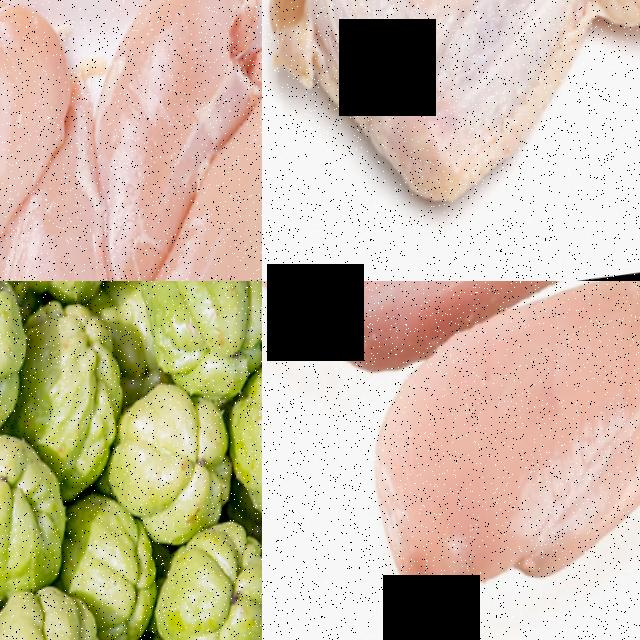chayote: (104, 367, 251, 535), (0, 425, 104, 602), (5, 301, 132, 439), (108, 281, 262, 384), (146, 521, 262, 640), (0, 281, 53, 457), (0, 573, 138, 640)
chicken breast: (331, 281, 640, 612), (85, 0, 262, 144), (0, 166, 165, 281), (117, 168, 262, 281), (0, 0, 83, 158)
chicken wing: (262, 0, 640, 237)
